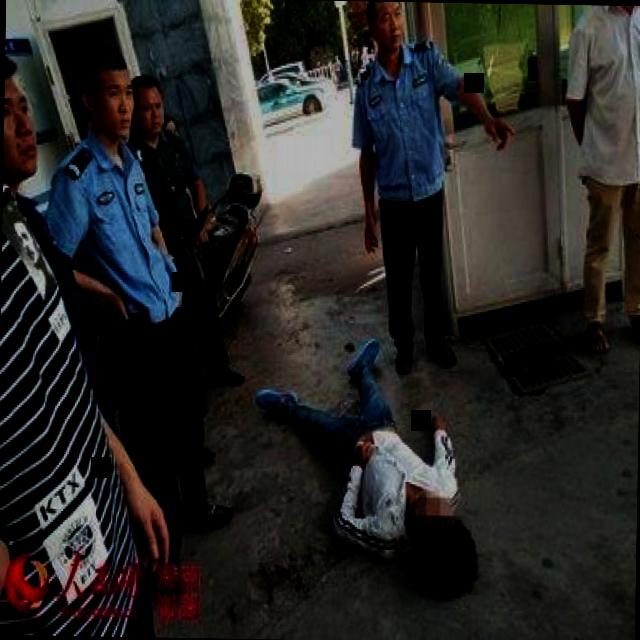Fall-Detected: (240, 319, 500, 604)
